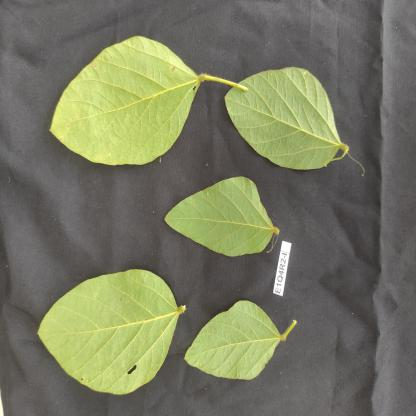label: (270, 236, 300, 294)
leaflets: (39, 32, 206, 180), (212, 36, 385, 171), (45, 255, 178, 388), (181, 303, 322, 408), (159, 175, 279, 254)
